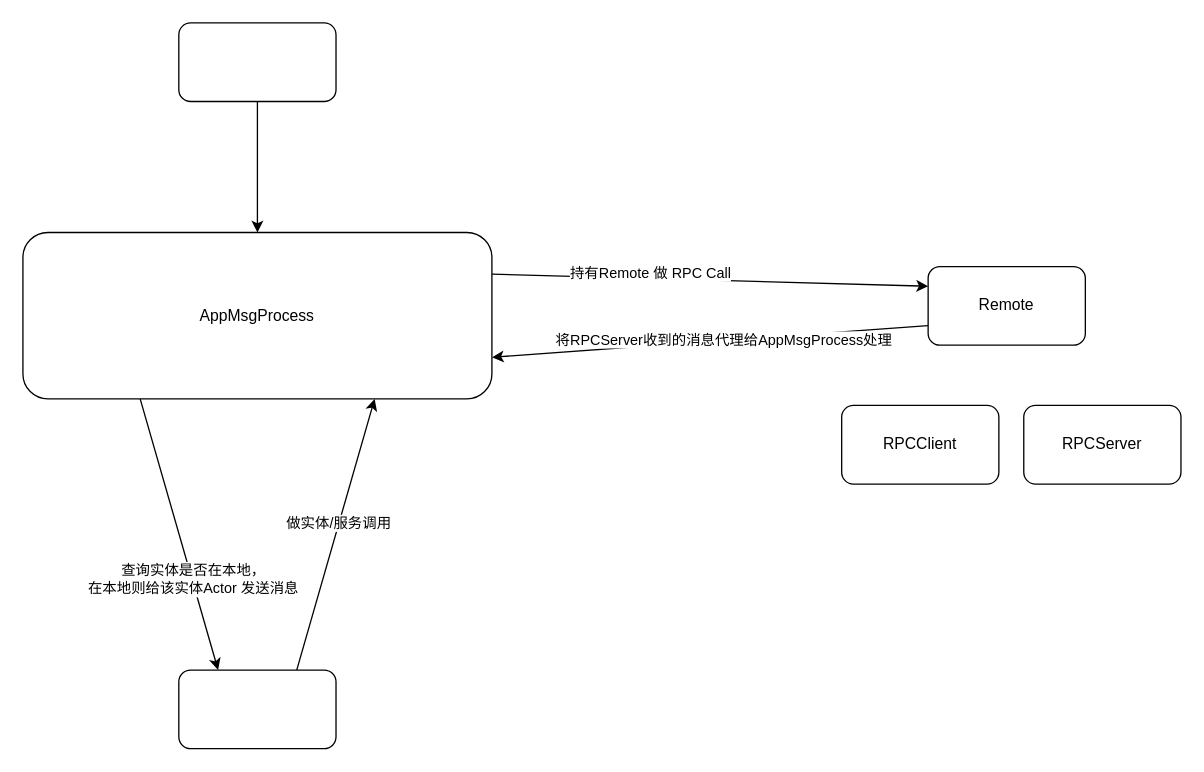
This 1204x772 diagram has some shape labels left out. Here are the shapes that lost their labels. From the top down, the centre of each, then its label:
At (257,62): "app （配置和处理remote process）".
At (257,709): "entity相关".
